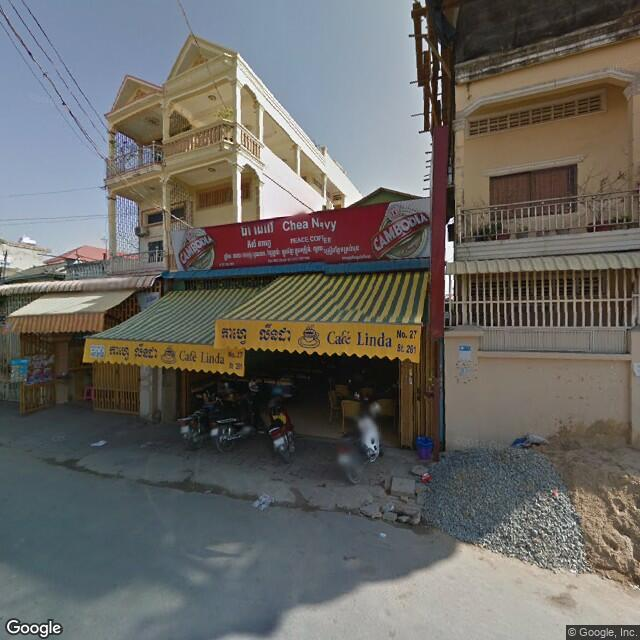litter: (253, 487, 275, 517), (86, 433, 112, 454), (418, 468, 436, 486), (376, 527, 394, 544), (549, 481, 562, 503)
